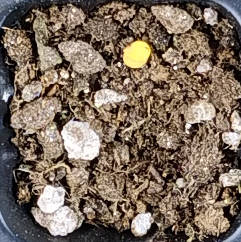chilli seed: (123, 40, 150, 67)
